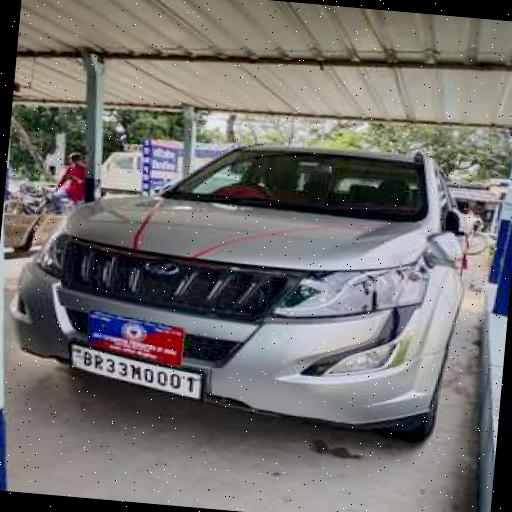license_plate`: (67, 342, 200, 396)
